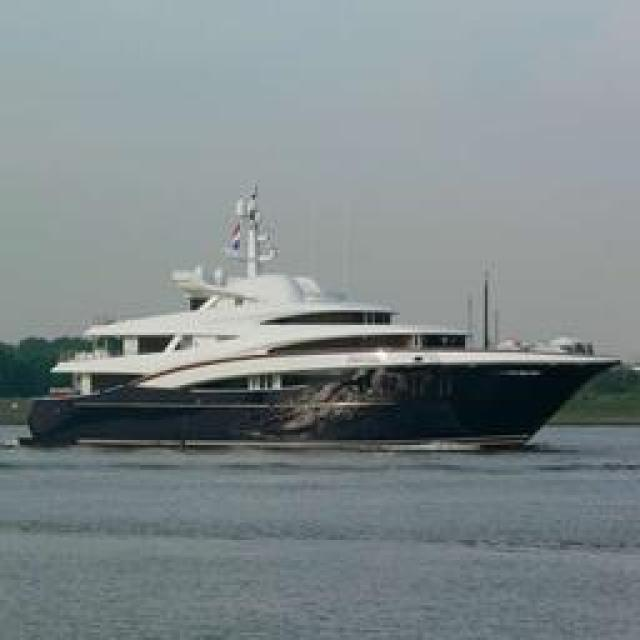CIV_Ship: (39, 302, 586, 442)
